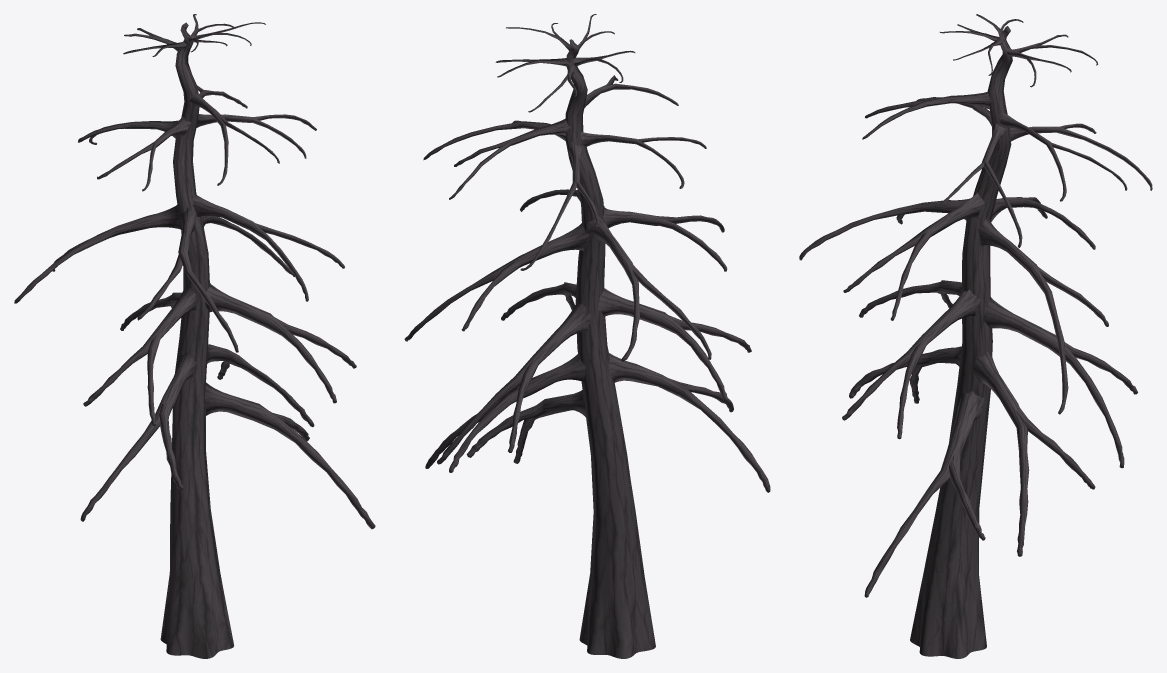
Rendered from dead_tree_5.gltf.
The picture shows the model from 3 angles, left to right: view 1: azimuth 30°, elevation 25°; view 2: azimuth 150°, elevation 25°; view 3: azimuth 270°, elevation 25°; orthographic projection. The views are drawn at different scales.
Parts seen in each view (by area): view 1: dead_tree_5; view 2: dead_tree_5; view 3: dead_tree_5.
Boxes of the visible parts, box(x1,y1,x2,y2) form: dead_tree_5: box(14, 14, 375, 658); dead_tree_5: box(404, 14, 770, 658); dead_tree_5: box(799, 14, 1152, 658).
Bounding box in the file's own units: 8.36 × 16.44 × 8.41.
1 material, 1 textured.
